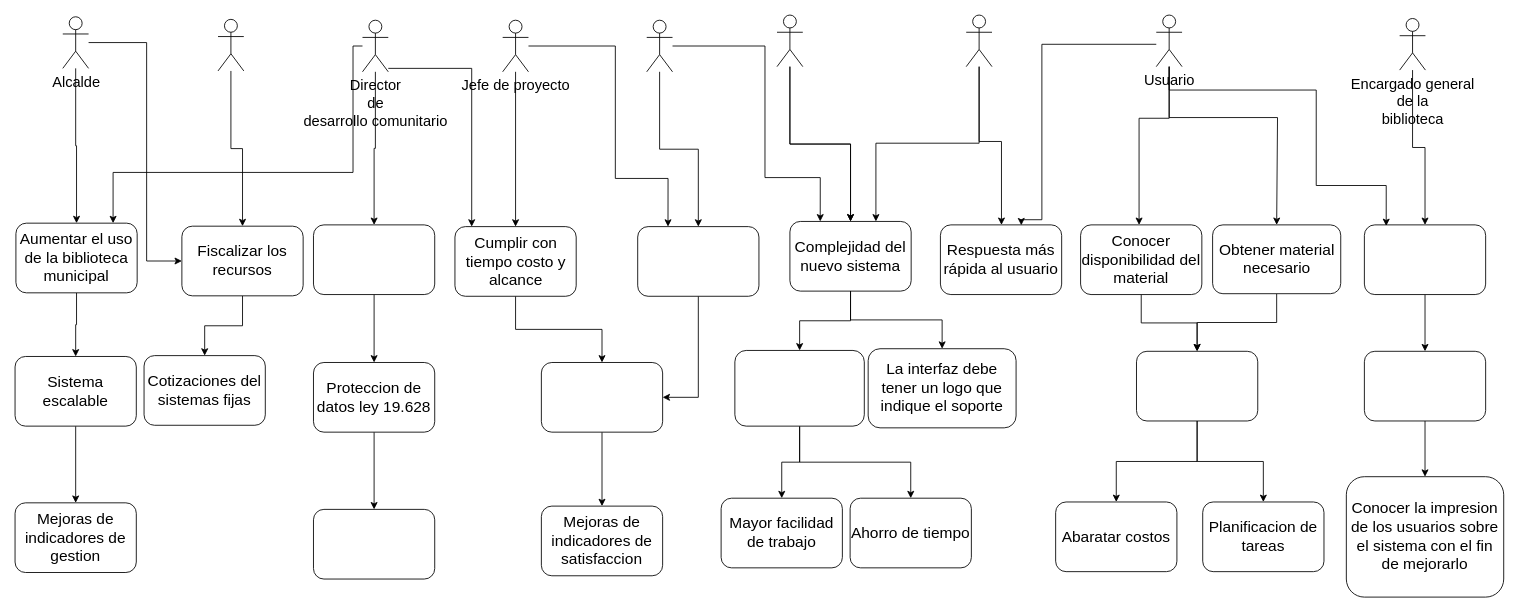
The diagram is 1519 pixels wide and 612 high, and some of its shapes have lost their labels. Here are the shapes that lost their labels. From the top down, the centre of each, then its label:
pixel 230 44: Consejo municipal
pixel 659 45: Arquitecto
pixel 789 40: Administrativo de biblioteca
pixel 978 40: Bibliotecario
pixel 374 259: Seguridad y transparencia del sistema
pixel 698 261: Constante feedback de los stakeholders
pixel 1425 259: Satisfaccion del usuario
pixel 602 397: Comunicacion con el cliente
pixel 799 388: Capacitacion del sistema
pixel 1197 385: Disponibilidad online del catalogo
pixel 1425 385: Encuesta de satisfaccion mensual
pixel 374 544: Evitar multas
